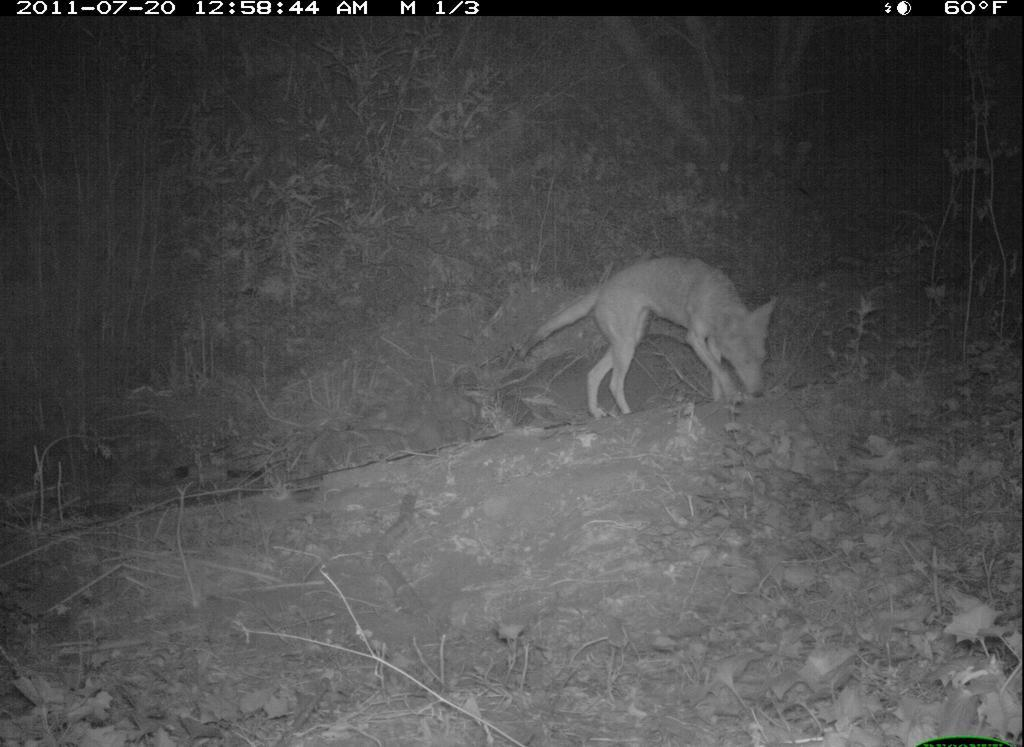coyote: (521, 257, 783, 425)
